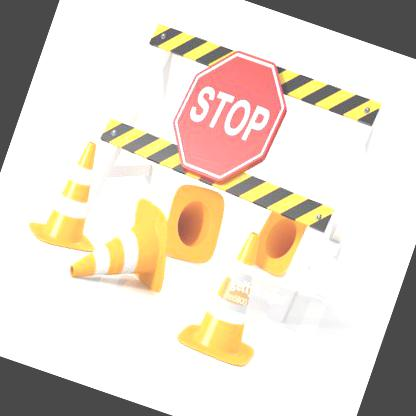cone: (175, 220, 293, 370), (67, 184, 187, 304), (24, 128, 129, 258)
